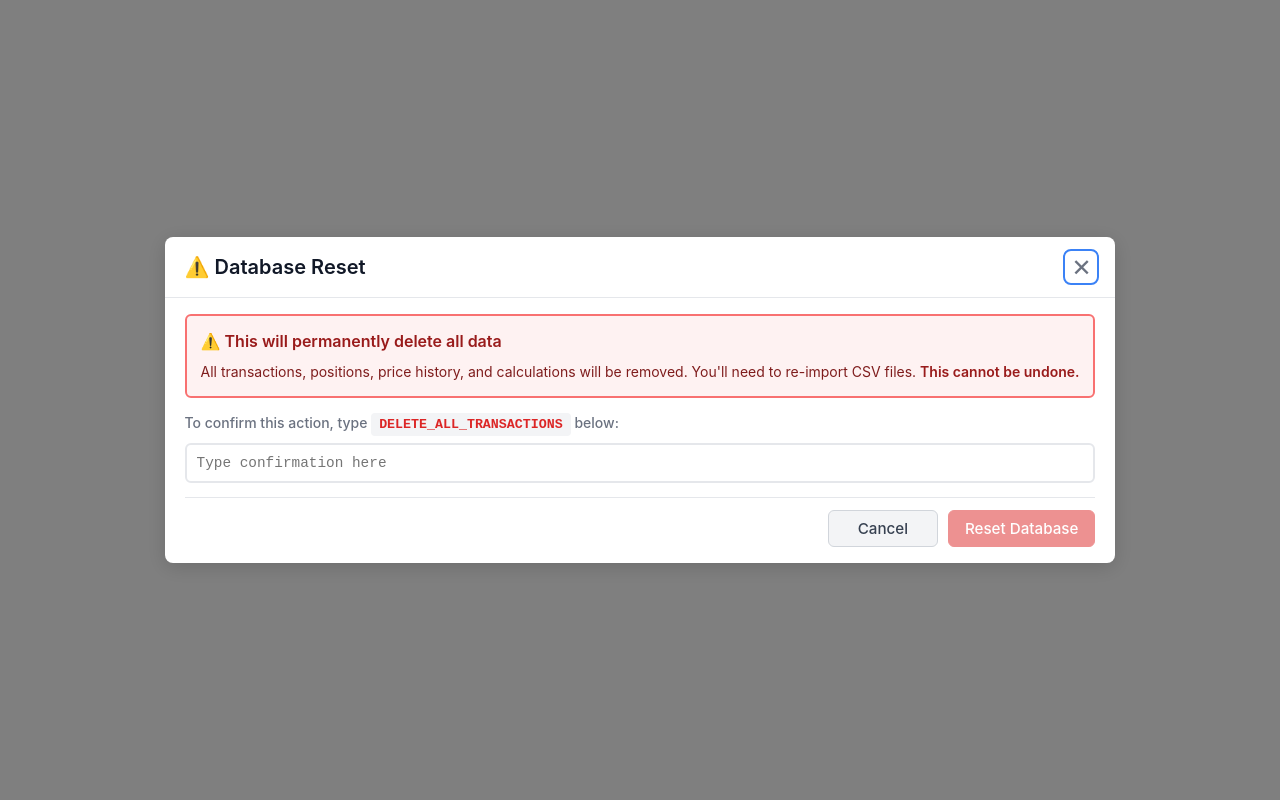
Test case: DatabaseResetModal › Reset Process › handles network error gracefully
Note: Type correct confirmation
Type "DELETE_ALL_TRANSACTIONS" into the field with placeholder "Type confirmation here" at (640, 463), box top-left (184, 443), bottom-right (1095, 483)
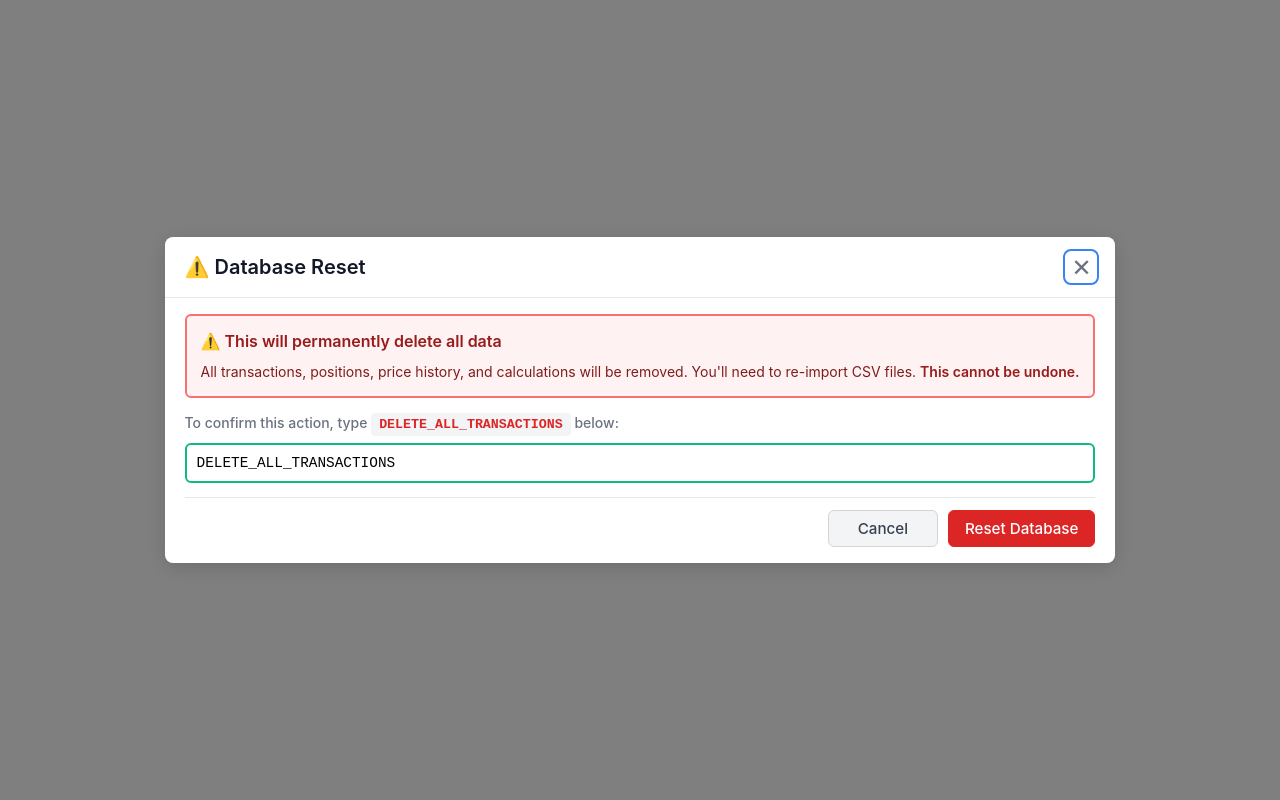
Note: Click reset
Click the button "Reset Database" at (1022, 528), box top-left (948, 510), bottom-right (1096, 547)
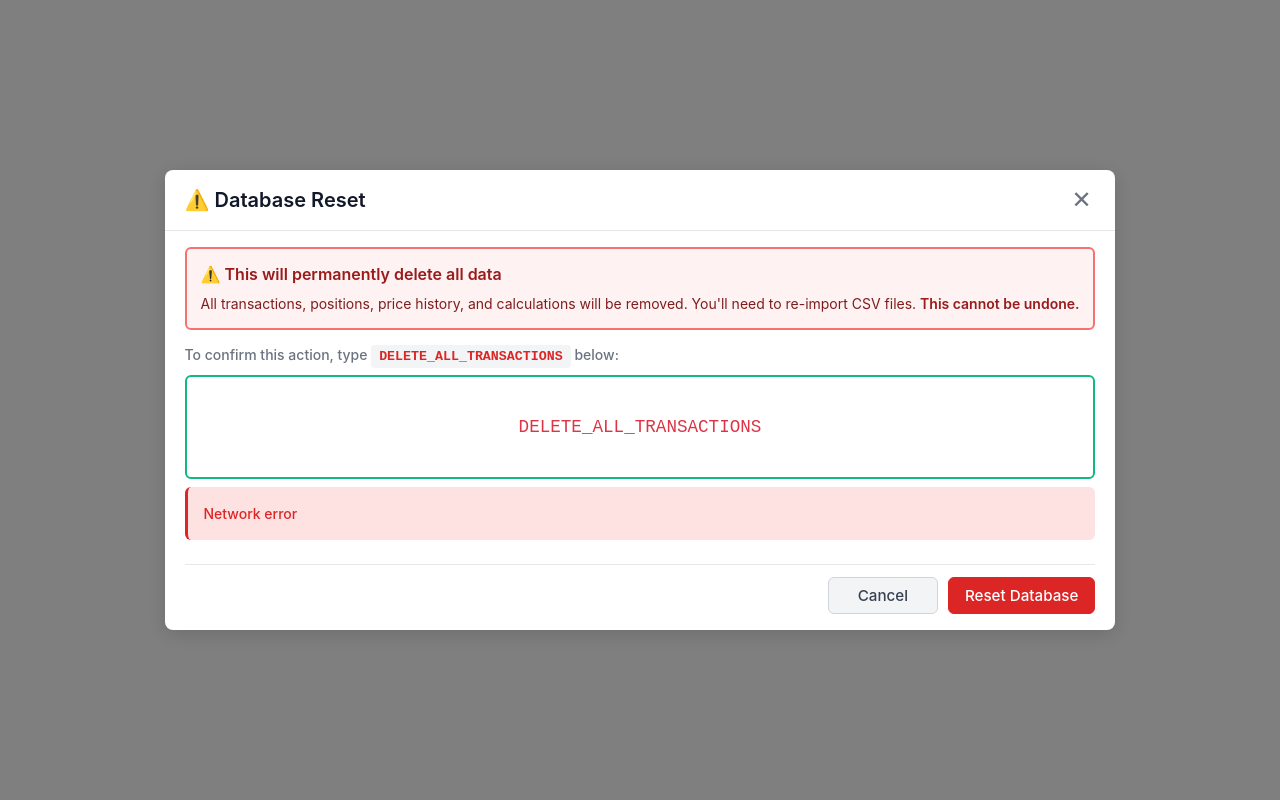
Now the message reads "Network error", box top-left (204, 505), bottom-right (297, 522)
